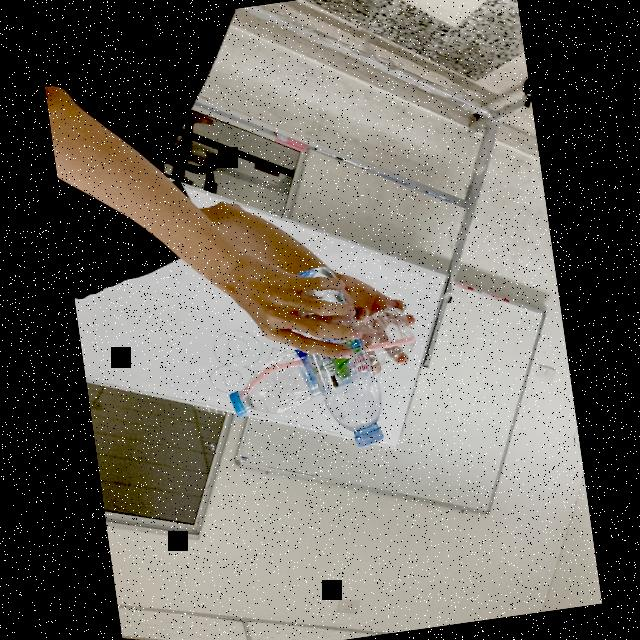plastic_bottle: (221, 304, 424, 420), (286, 262, 388, 456)
plastic_bottle_cap: (353, 426, 385, 450), (229, 389, 249, 419)
straw: (237, 337, 420, 398)
